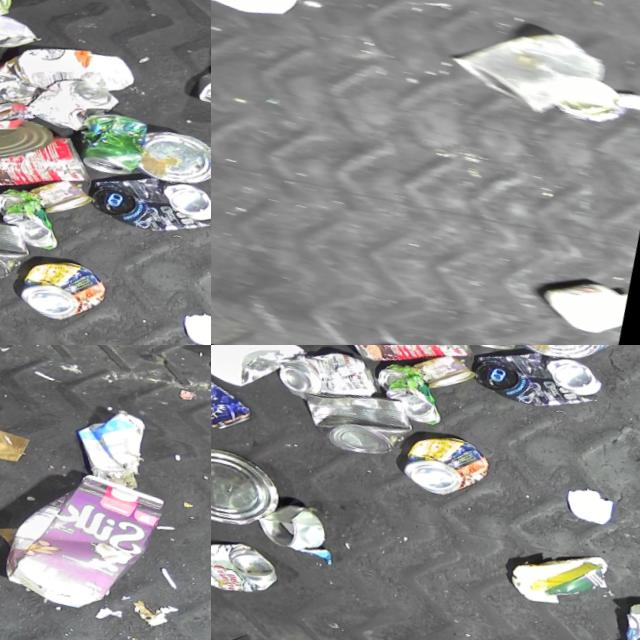can: (286, 376, 414, 466), (80, 161, 211, 248), (463, 345, 602, 423), (0, 112, 93, 210), (7, 251, 107, 332), (390, 426, 490, 507), (266, 345, 379, 414), (17, 70, 120, 143), (211, 434, 283, 536), (67, 109, 148, 185), (130, 124, 211, 197), (362, 360, 446, 429), (333, 345, 476, 385), (211, 527, 276, 602), (244, 495, 322, 556), (0, 184, 63, 253), (0, 97, 51, 178), (19, 172, 91, 225), (402, 347, 474, 400), (211, 363, 256, 437), (0, 201, 31, 291), (513, 345, 613, 372), (0, 1, 37, 60), (190, 55, 211, 122)
non_white_jug: (0, 457, 169, 625)
